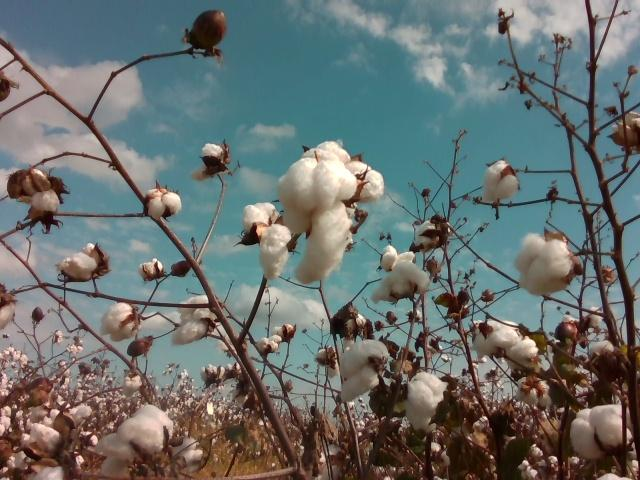cotton_ready: (280, 138, 386, 285), (98, 402, 175, 476), (569, 402, 631, 462), (244, 202, 291, 281), (515, 234, 574, 296), (338, 336, 389, 403), (471, 320, 539, 367), (406, 371, 449, 431), (371, 260, 432, 301), (26, 421, 68, 480), (174, 294, 216, 343), (20, 170, 64, 215), (60, 241, 106, 279), (483, 161, 519, 208), (102, 301, 141, 343), (147, 186, 181, 216), (413, 219, 444, 250), (616, 112, 640, 144), (199, 144, 227, 170)
